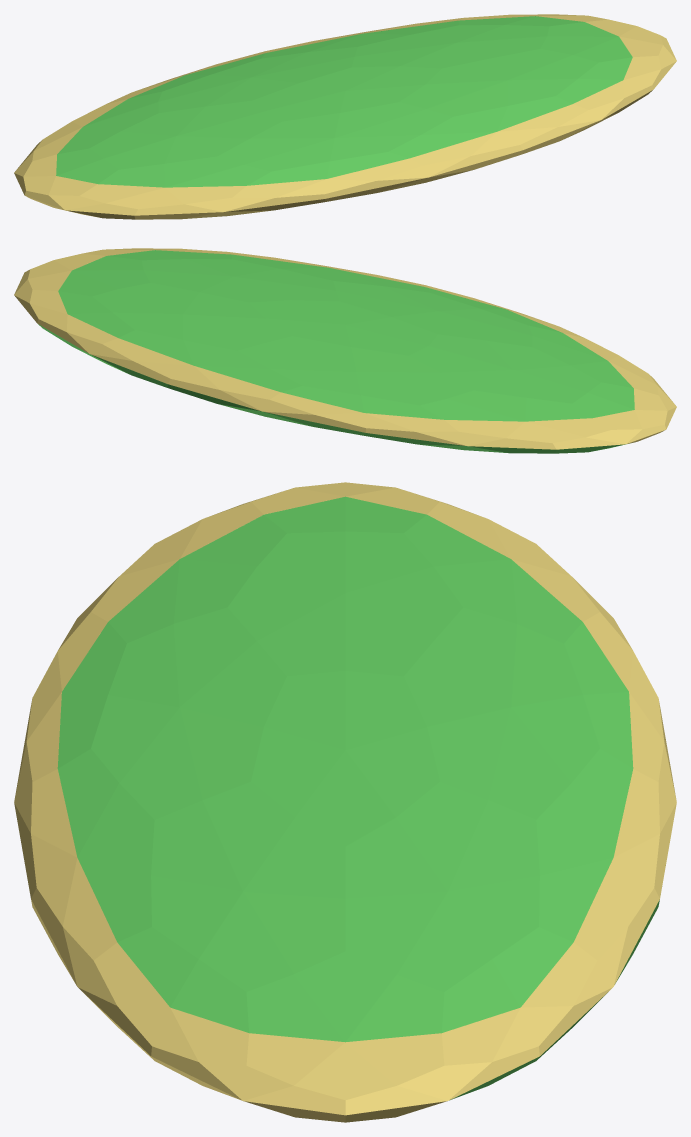
Rendered from land.glb.
3 views of the same model, one above another, from view 1: azimuth 30°, elevation 25°; view 2: azimuth 150°, elevation 25°; view 3: azimuth 270°, elevation 25° (orthographic). The views are drawn at different scales.
Visible parts, largest first — view 1: Icosphere; view 2: Icosphere; view 3: Icosphere.
Part boxes in pixels (<box>): Icosphere: <box>14,14,676,219</box>; Icosphere: <box>14,248,676,453</box>; Icosphere: <box>14,482,676,1122</box>.
Size of the model in its own units: 52.27 by 4.07 by 23.37.
